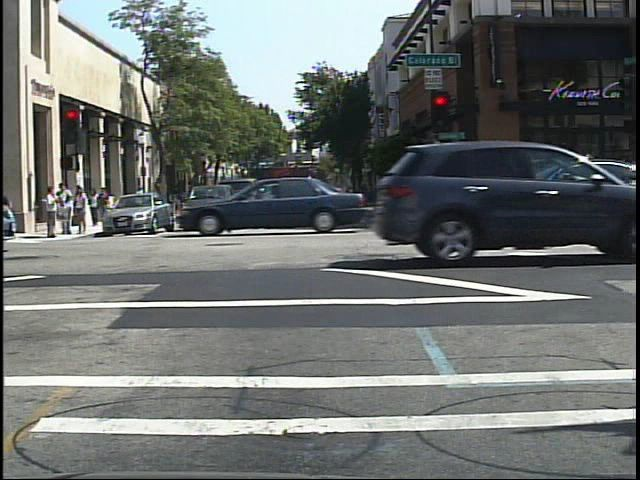person: (88, 187, 103, 228), (132, 184, 149, 219), (167, 182, 183, 219)
